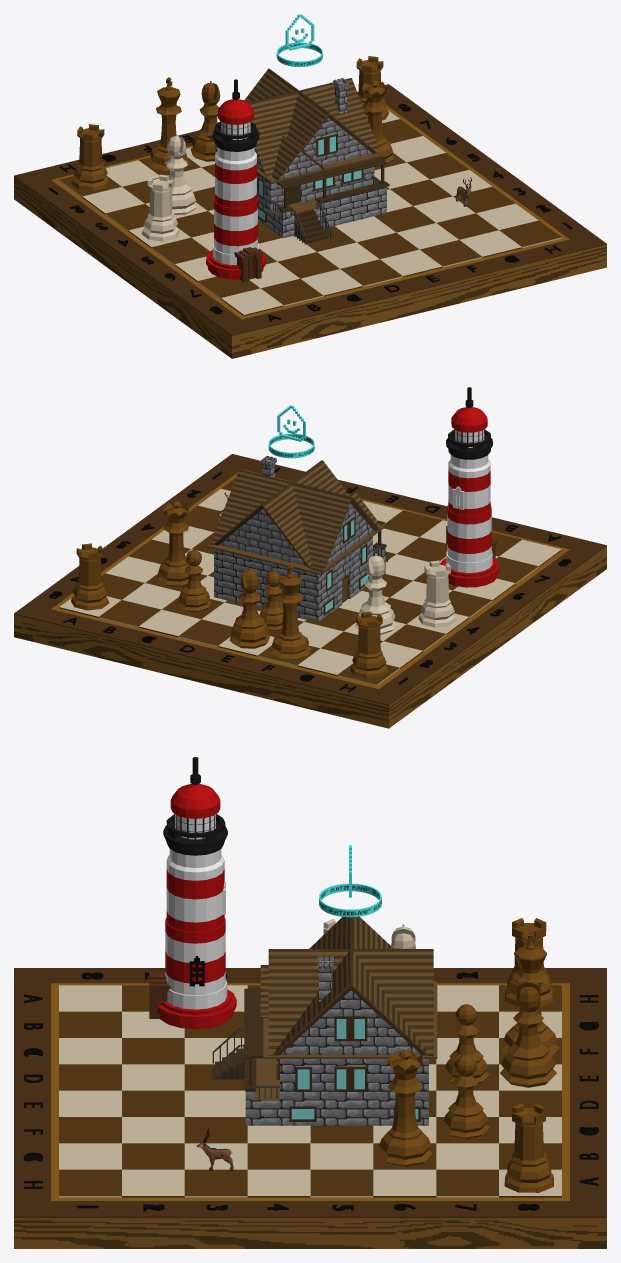
The picture shows the model from 3 angles, top to bottom: view 1: azimuth 30°, elevation 25°; view 2: azimuth 150°, elevation 25°; view 3: azimuth 270°, elevation 25°; orthographic projection. The views are drawn at different scales.
Visible parts, largest first — view 1: Cube.002, Cube.586, OBJRANDOM_LIGHTHOUSE, TYPE_PREMIUM; view 2: Cube.002, Cube.586, OBJRANDOM_LIGHTHOUSE, TYPE_PREMIUM; view 3: Cube.002, Cube.586, OBJRANDOM_LIGHTHOUSE, TYPE_PREMIUM.
Boxes of the visible parts, left/top/right/bottom form: Cube.002: left=14, top=56, right=606, bottom=358; Cube.586: left=207, top=68, right=389, bottom=244; OBJRANDOM_LIGHTHOUSE: left=206, top=79, right=265, bottom=282; TYPE_PREMIUM: left=276, top=14, right=322, bottom=66; Cube.002: left=14, top=454, right=606, bottom=728; Cube.586: left=206, top=456, right=387, bottom=622; OBJRANDOM_LIGHTHOUSE: left=440, top=387, right=499, bottom=587; TYPE_PREMIUM: left=268, top=405, right=314, bottom=458; Cube.002: left=14, top=918, right=606, bottom=1248; Cube.586: left=212, top=916, right=437, bottom=1125; OBJRANDOM_LIGHTHOUSE: left=149, top=757, right=236, bottom=1029; TYPE_PREMIUM: left=319, top=845, right=381, bottom=917.
Bounding box in the file's own units: 3981 × 2244 × 4012.
Materials: 29 (4 with a texture image).
